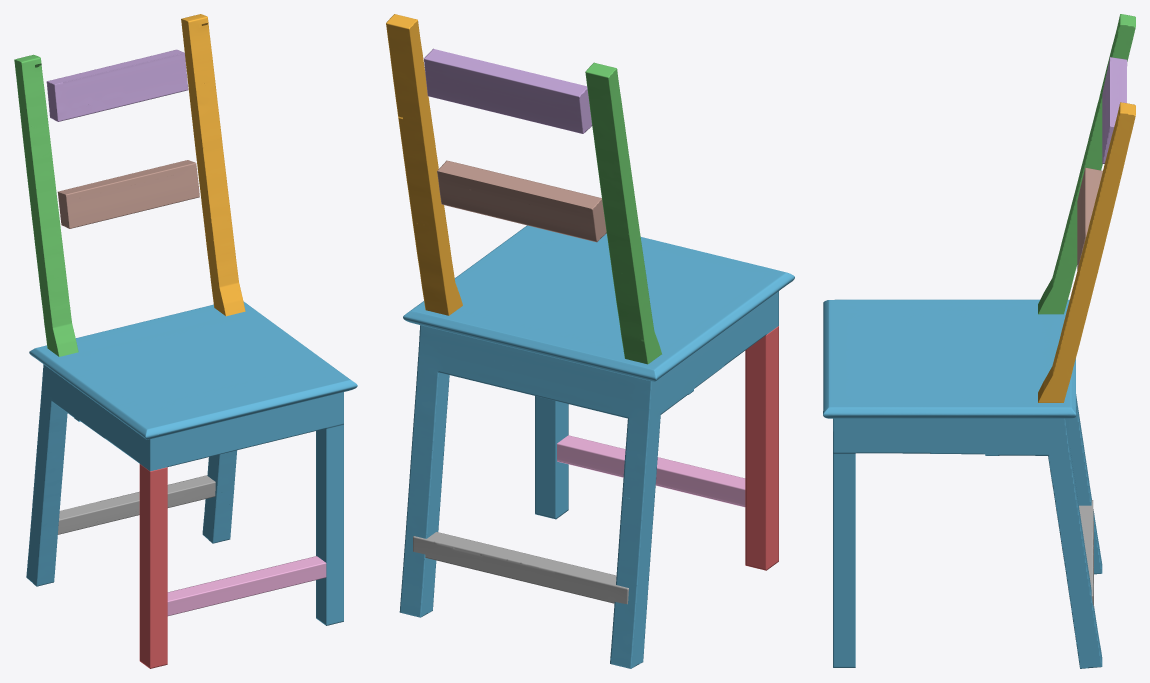
File: ladder-chair.glb
3 renders of one model, left to right at view 1: azimuth 30°, elevation 25°; view 2: azimuth 150°, elevation 25°; view 3: azimuth 270°, elevation 25°, orthographic. The views are drawn at different scales.
Visible parts, largest first — view 1: Part 01, Part 02, Part 03, Part 05, Part 04, Part 06, Part 07, Part 08; view 2: Part 01, Part 03, Part 02, Part 05, Part 04, Part 06, Part 08, Part 07; view 3: Part 01, Part 02, Part 03, Part 05, Part 06, Part 08.
Boxes of the visible parts, x1,y1,x2,y2 form: Part 01: (26,301,357,625); Part 02: (181,14,245,316); Part 03: (14,54,78,356); Part 05: (46,49,188,121); Part 04: (139,464,167,668); Part 06: (57,160,199,228); Part 07: (167,556,326,615); Part 08: (58,475,215,534); Part 01: (399,225,794,668); Part 03: (585,62,661,364); Part 02: (386,14,462,315); Part 05: (424,48,592,133); Part 04: (745,326,778,570); Part 06: (437,160,606,242); Part 08: (413,532,628,604); Part 07: (557,435,745,507); Part 01: (823,299,1102,668); Part 02: (1038,102,1135,402); Part 03: (1038,14,1135,314); Part 05: (1102,57,1127,163); Part 06: (1077,167,1102,270); Part 08: (1079,500,1093,607).
Size of the model in its own units: 0.4348 by 0.9996 by 0.5115.
